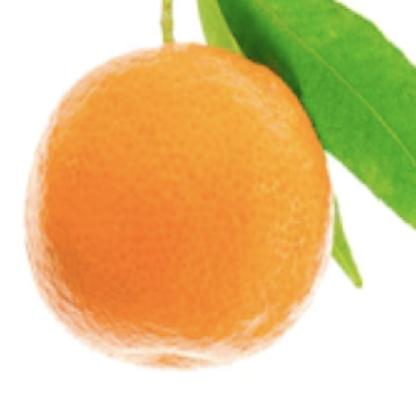fresh: (24, 44, 334, 376)
